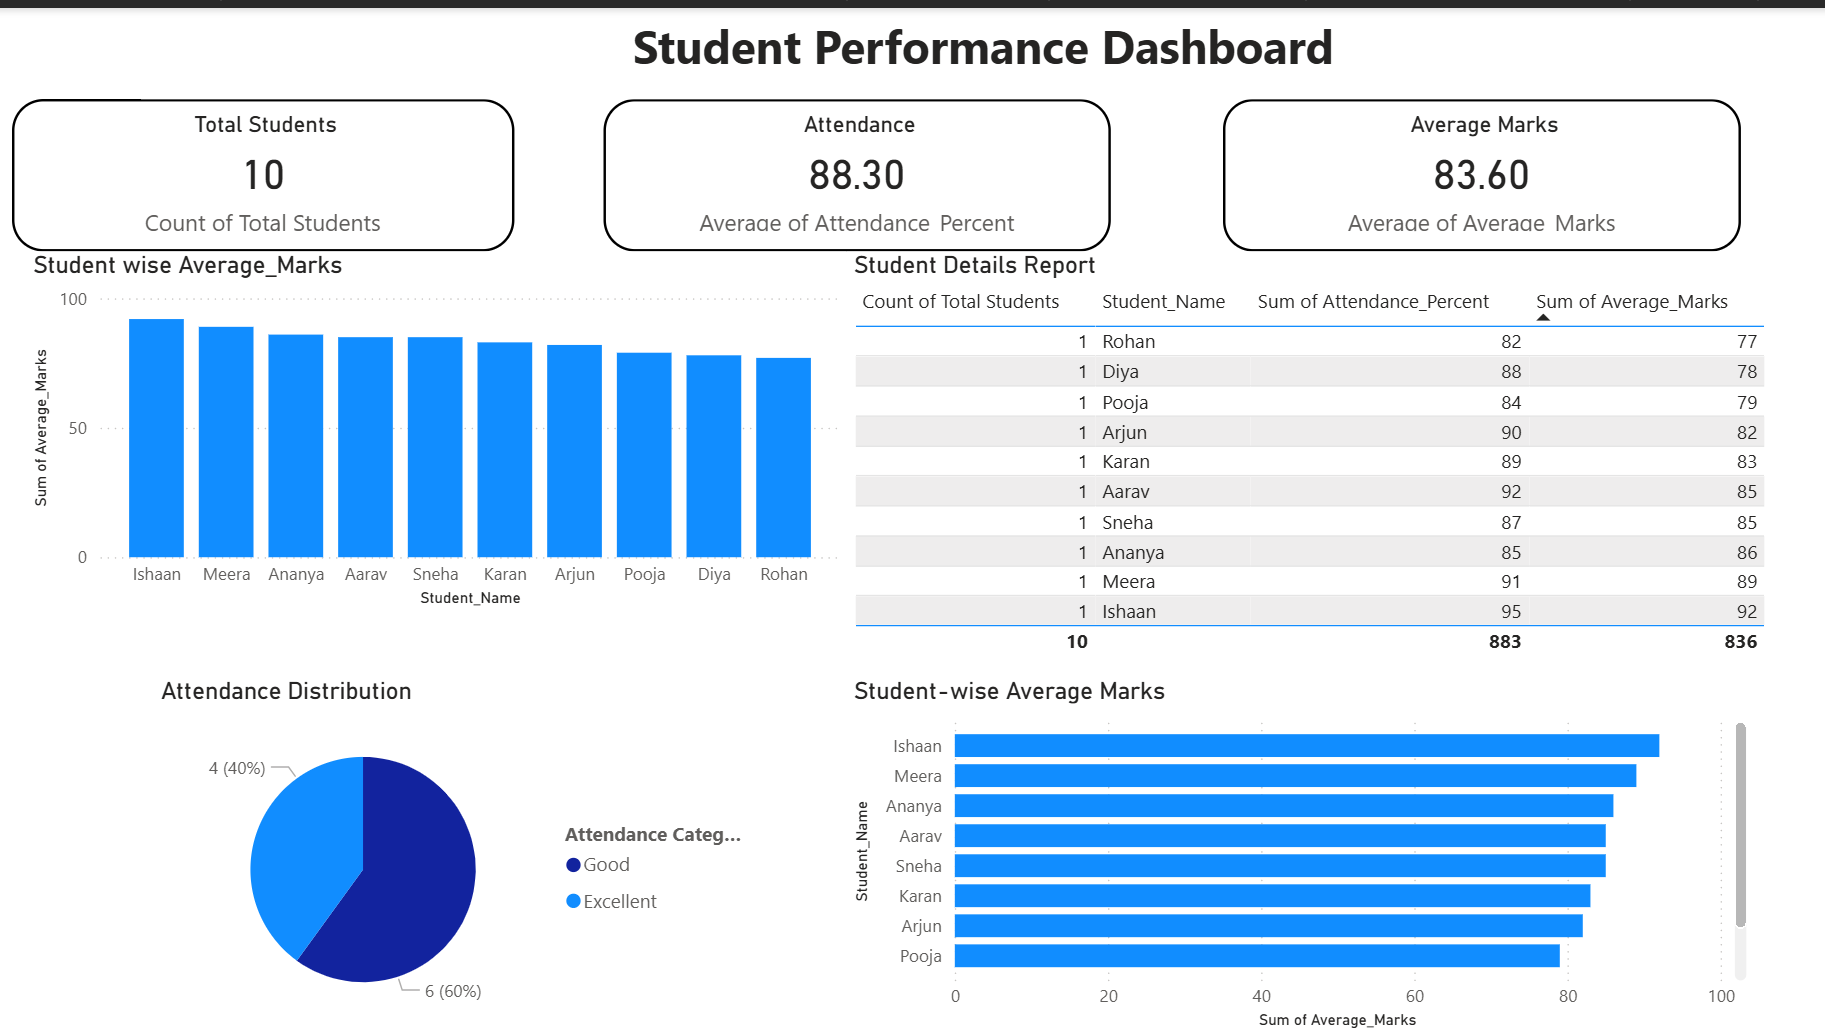

The dashboard page shown, as its layout file describes it:
{"tool":"powerbi","page":{"name":"Page 1","canvas":[1280,720],"ordinal":0},"visuals":[{"type":"card","title":"Total Students","fields":{"Values":["CountNonNull(Sheet.Student_ID)"]},"box":[9.8,63.8,351.9,106.7],"z":3001},{"type":"card","title":"Attendance","fields":{"Values":["Avg(Sheet.Attendance_Percent)"]},"box":[424.2,63.8,355.6,106.7],"z":3002},{"type":"card","title":"Average Marks","fields":{"Values":["Avg(Sheet.Average_Marks)"]},"box":[858.2,63.8,362.9,106.7],"z":3003},{"type":"clusteredColumnChart","title":"Student wise Average_Marks ","fields":{"Category":["Sheet.Student_Name"],"Y":["Sum(Sheet.Average_Marks)"]},"box":[19.6,170.4,575,253.8],"z":3004},{"type":"pieChart","title":"Attendance Distribution","fields":{"Category":["Sheet.Attendance Category"],"Y":["CountNonNull(Sheet.Total Students)"]},"box":[109.1,468.4,423,251.3],"z":3005},{"type":"clusteredBarChart","title":"Student-wise Average Marks","fields":{"Category":["Sheet.Student_Name"],"Y":["Sum(Sheet.Average_Marks)"]},"box":[594.6,468.4,635.1,251.3],"z":3006},{"type":"tableEx","title":"Student Details Report","fields":{"Values":["CountNonNull(Sheet.Total Students)","Sheet.Student_Name","Sum(Sheet.Attendance_Percent)","Sum(Sheet.Average_Marks)"]},"box":[594.6,170.4,649.8,297.9],"z":3007},{"type":"textbox","box":[100.5,0,1179.5,63.8],"z":3008}]}

Visuals, with their boxes in screenshot pixels (x1, y1, x2, y2), scaled from the page's 1280x720 canvas onto the 1825x1033 screenshot:
"Total Students" card: (14, 92, 516, 245)
"Attendance" card: (605, 92, 1112, 245)
"Average Marks" card: (1224, 92, 1741, 245)
"Student wise Average_Marks " clusteredColumnChart: (28, 244, 848, 609)
"Attendance Distribution" pieChart: (156, 672, 759, 1032)
"Student-wise Average Marks" clusteredBarChart: (848, 672, 1753, 1032)
"Student Details Report" tableEx: (848, 244, 1774, 672)
textbox: (143, 0, 1824, 92)
